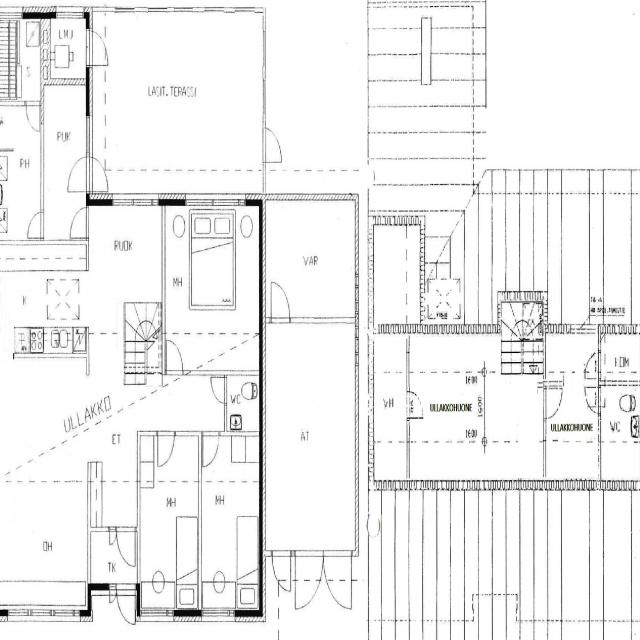door: (295, 551, 324, 610), (324, 551, 352, 610), (86, 27, 114, 66), (86, 156, 112, 190), (270, 551, 290, 595), (68, 156, 92, 190), (116, 584, 134, 628), (271, 282, 290, 323), (263, 128, 284, 162), (117, 527, 135, 566), (157, 431, 175, 469), (544, 387, 564, 419), (166, 339, 183, 374), (70, 206, 89, 237), (203, 431, 219, 467), (24, 101, 40, 135), (584, 387, 601, 415), (27, 212, 44, 238), (406, 391, 423, 417), (584, 352, 601, 378), (210, 377, 226, 403)
